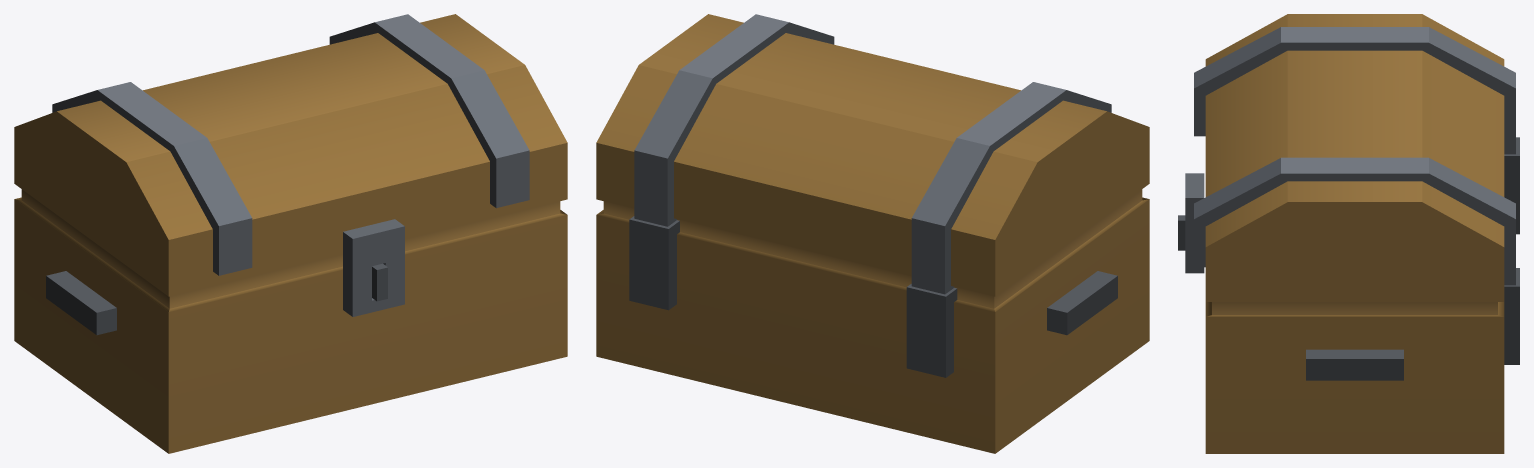
File: coffre.fbx
3 renders of one model, left to right at view 1: azimuth 30°, elevation 25°; view 2: azimuth 150°, elevation 25°; view 3: azimuth 270°, elevation 25°, orthographic. The views are drawn at different scales.
Parts seen in each view (by area): view 1: couvercle, coffree; view 2: couvercle, coffree; view 3: couvercle, coffree.
Boxes of the visible parts, left/top/right/bottom form: couvercle: left=14, top=14, right=567, bottom=316; coffree: left=14, top=189, right=567, bottom=453; couvercle: left=596, top=14, right=1149, bottom=296; coffree: left=596, top=189, right=1149, bottom=453; couvercle: left=1185, top=14, right=1515, bottom=301; coffree: left=1178, top=137, right=1519, bottom=453.
Size of the model in its own units: 2.34 by 1.37 by 1.63.
